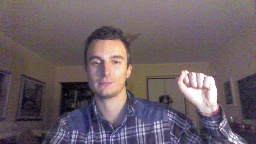Pugno: (174, 67, 219, 112)
